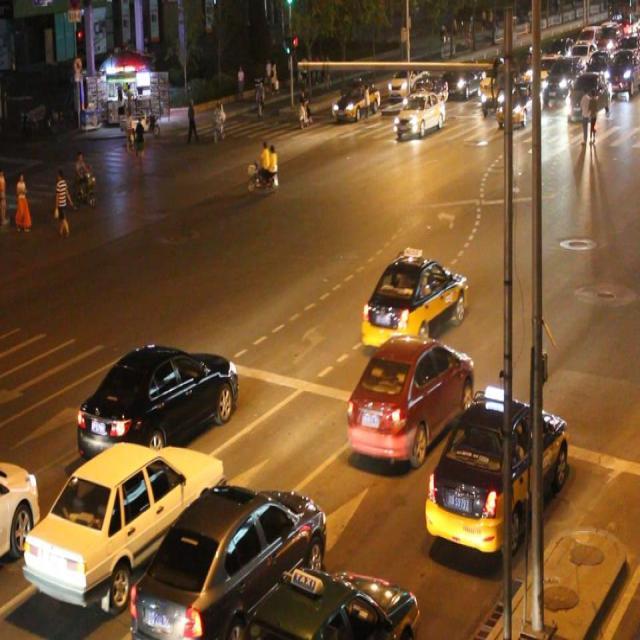car: (21, 437, 226, 614), (129, 480, 329, 640), (421, 392, 570, 556), (76, 340, 235, 464), (344, 331, 474, 468), (242, 564, 422, 640), (360, 253, 467, 350), (1, 458, 42, 562), (392, 90, 445, 140)
